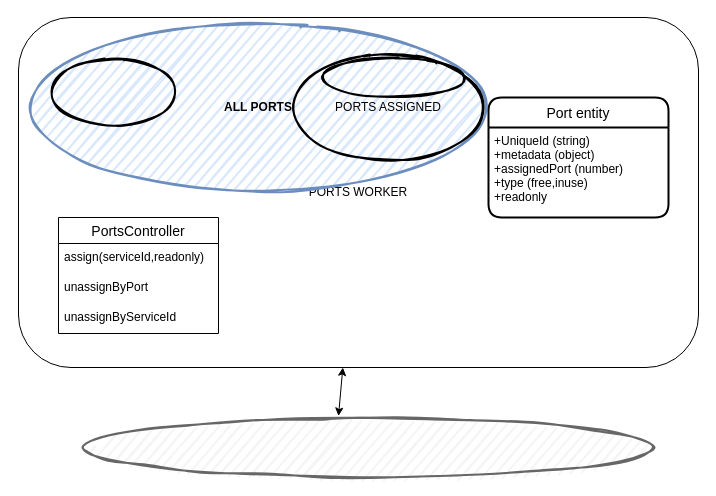
Image size: 716x496. Some labels were removed from this diagram. The centre of each missing label's shape, as x and y in pixels:
"BACKEND SERVICES" goes at (x=368, y=447).
"FREE PORTS" goes at (x=113, y=92).
"PORTS TAKEN BY DEFAULT" goes at (x=393, y=77).
